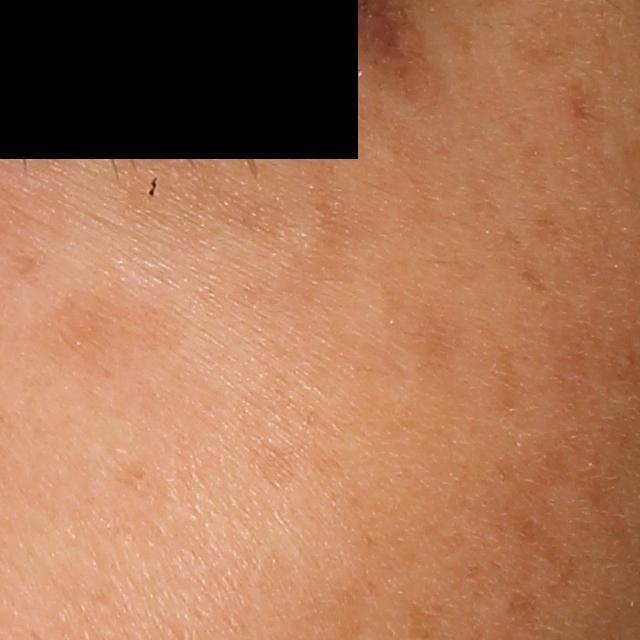melasma: (479, 423, 640, 604), (298, 96, 448, 244), (20, 283, 194, 387), (371, 254, 479, 397), (243, 366, 358, 496), (498, 0, 616, 77), (491, 225, 561, 305), (563, 79, 614, 184), (477, 323, 523, 423), (524, 198, 577, 271), (518, 137, 553, 204), (108, 450, 156, 497), (4, 243, 51, 288)
